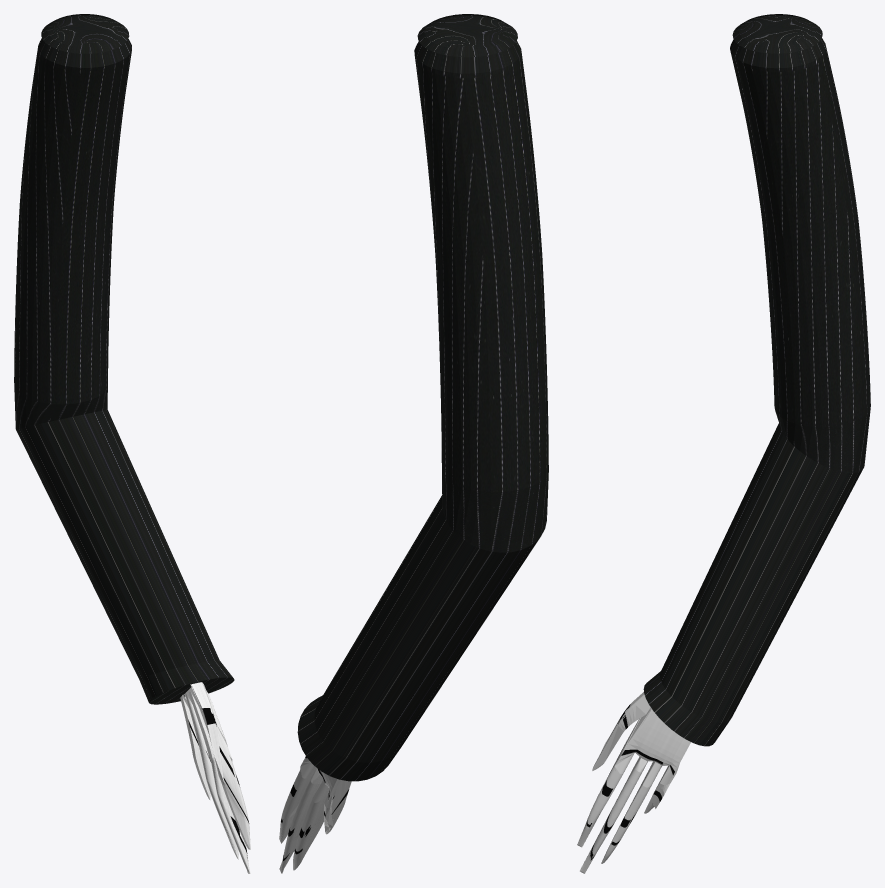
Rendered from brazoIzqJack.obj.
3 views of the same model, side by side, from view 1: azimuth 30°, elevation 25°; view 2: azimuth 210°, elevation 25°; view 3: azimuth 270°, elevation 25° (orthographic). The views are drawn at different scales.
Parts seen in each view (by area): view 1: brazoizquierdo_Circle.003_traje.002, brazoizquierdo_Circle.003_Material.003; view 2: brazoizquierdo_Circle.003_traje.002, brazoizquierdo_Circle.003_Material.003; view 3: brazoizquierdo_Circle.003_traje.002, brazoizquierdo_Circle.003_Material.003.
Part boxes in pixels (x1,y1,x2,y2): brazoizquierdo_Circle.003_traje.002: [14, 14, 234, 704]; brazoizquierdo_Circle.003_Material.003: [180, 682, 250, 873]; brazoizquierdo_Circle.003_traje.002: [297, 14, 548, 781]; brazoizquierdo_Circle.003_Material.003: [279, 756, 351, 873]; brazoizquierdo_Circle.003_traje.002: [643, 14, 870, 746]; brazoizquierdo_Circle.003_Material.003: [577, 692, 690, 873].
Size of the model in its own units: 3.34 by 18.05 by 5.92.
